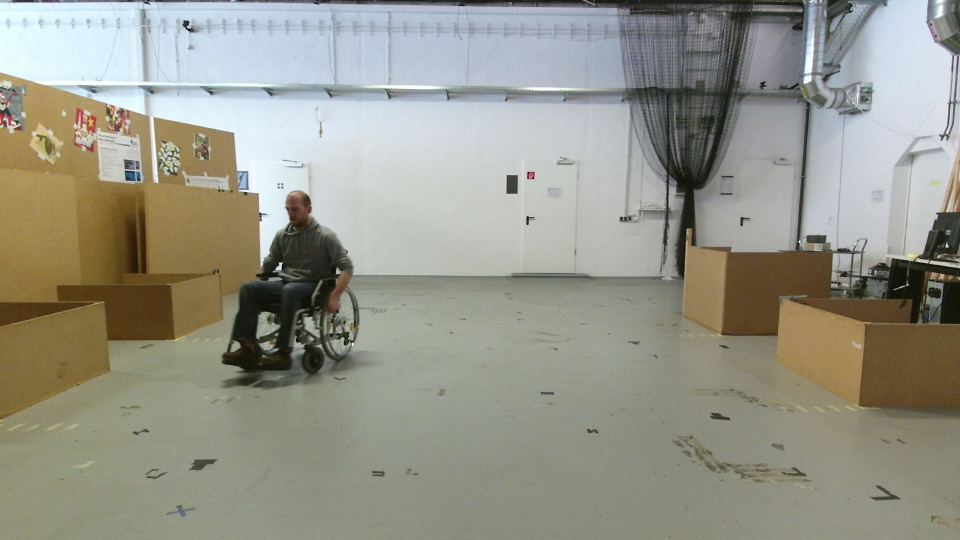wheelchair: (218, 185, 363, 377)
